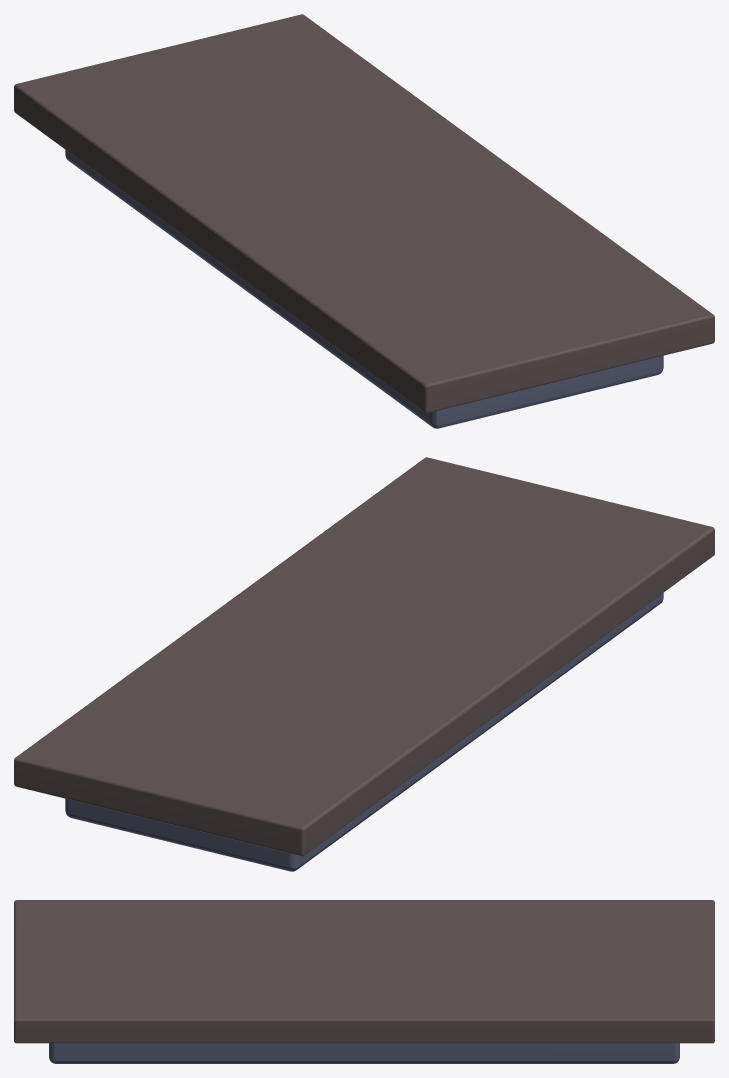
The model's file is Lightsource_ArmatureOne.fbx.
The picture shows the model from 3 angles, top to bottom: view 1: azimuth 30°, elevation 25°; view 2: azimuth 150°, elevation 25°; view 3: azimuth 270°, elevation 25°; orthographic projection. The views are drawn at different scales.
Visible parts, largest first — view 1: SM_Lamp_combined; view 2: SM_Lamp_combined; view 3: SM_Lamp_combined.
Part boxes in pixels (x1,y1,x2,y2): SM_Lamp_combined: (14,14,714,428); SM_Lamp_combined: (14,457,714,871); SM_Lamp_combined: (14,900,714,1063).
Size of the model in its own units: 407 by 92.13 by 1000.
